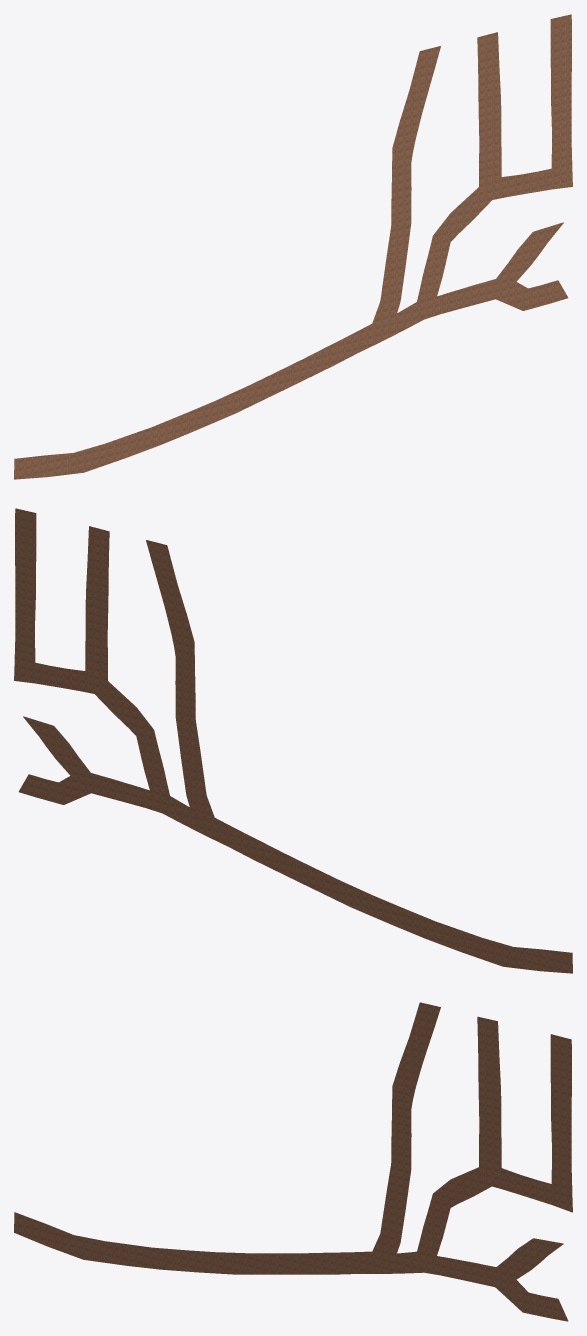
The model's file is floor_54.obj.
3 renders of one model, top to bottom at view 1: azimuth 30°, elevation 25°; view 2: azimuth 150°, elevation 25°; view 3: azimuth 330°, elevation 25°, orthographic.
Visible parts, largest first — view 1: floor_54; view 2: floor_54; view 3: floor_54.
Part boxes in pixels (x1,y1,x2,y2): floor_54: (14,14,572,479); floor_54: (14,508,572,973); floor_54: (14,1002,572,1321).
Bounding box in the file's own units: 75.13 × 43.63 × 0.1.
1 material, 1 textured.
